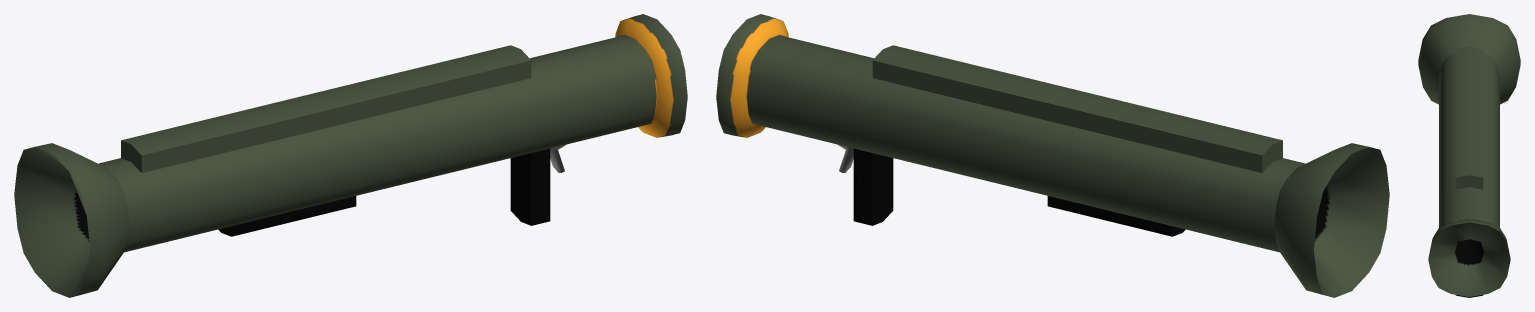
The model's file is Bazooka.fbx.
The picture shows the model from 3 angles, left to right: view 1: azimuth 30°, elevation 25°; view 2: azimuth 150°, elevation 25°; view 3: azimuth 270°, elevation 25°; orthographic projection. The views are drawn at different scales.
Parts seen in each view (by area): view 1: bazooka; view 2: bazooka; view 3: bazooka.
Part boxes in pixels (bbox=[...]): bazooka: bbox=[14, 14, 687, 297]; bazooka: bbox=[716, 14, 1389, 297]; bazooka: bbox=[1418, 14, 1520, 297].
Size of the model in its own units: 428 by 123 by 92.95.
1 material, 1 textured.
